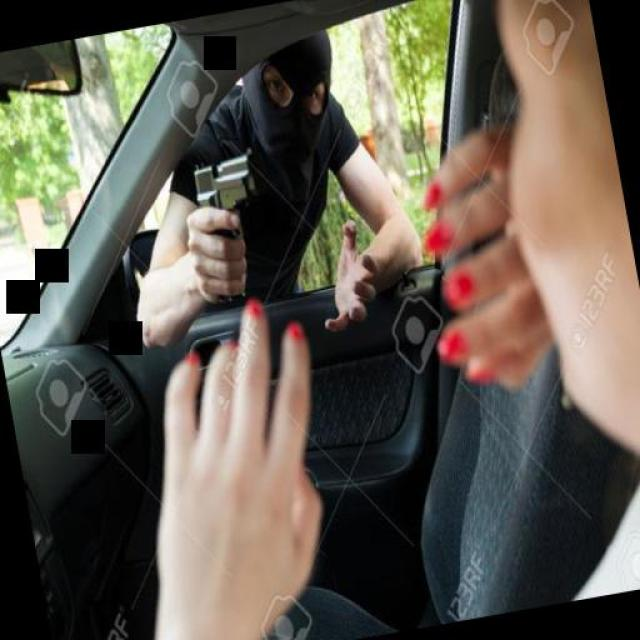gun: (186, 148, 279, 304)
